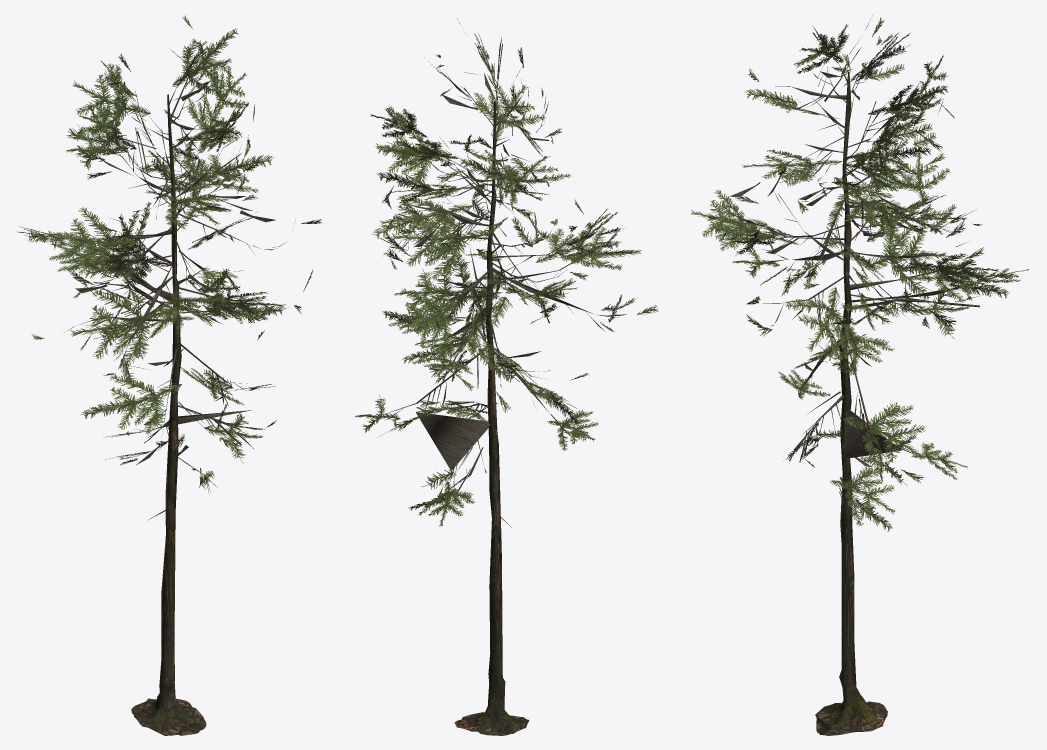
File: fir-1-far.glb
3 renders of one model, left to right at view 1: azimuth 30°, elevation 25°; view 2: azimuth 150°, elevation 25°; view 3: azimuth 270°, elevation 25°, orthographic. The views are drawn at different scales.
Visible parts, largest first — view 1: fir_1_far; view 2: fir_1_far; view 3: fir_1_far.
Part boxes in pixels (x1,y1,x2,y2): fir_1_far: (17,15,321,735); fir_1_far: (355,18,658,735); fir_1_far: (691,15,1028,735).
Size of the model in its own units: 5.69 by 15.03 by 6.49.
3 materials, 3 textured.
